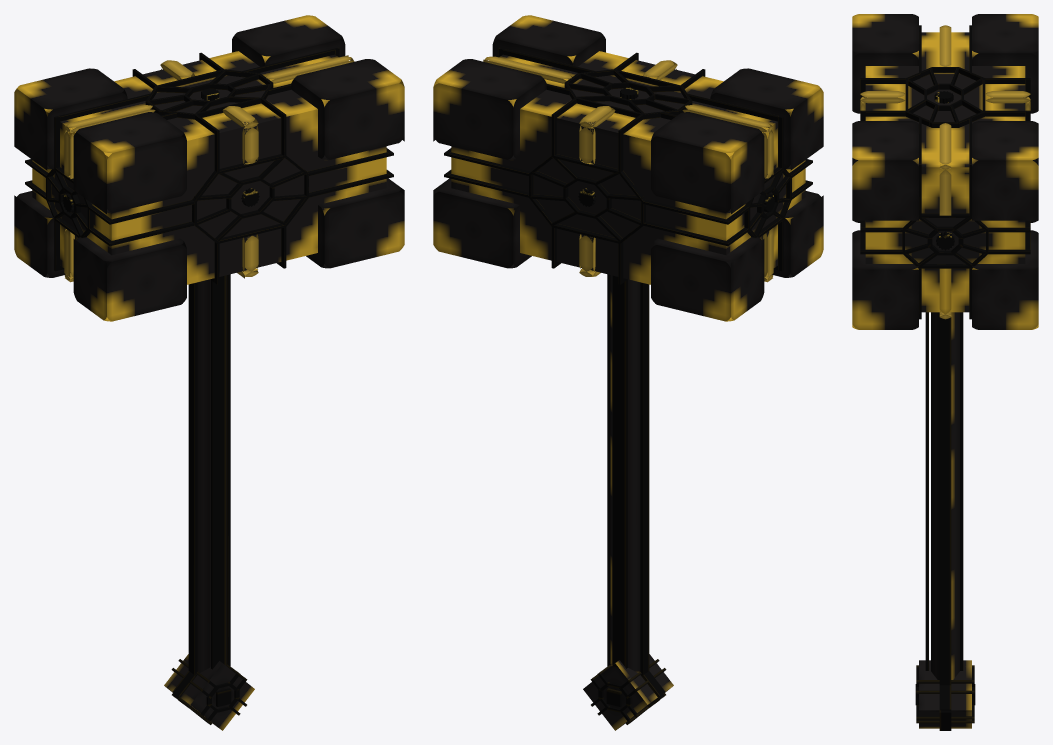
Rendered from midus_mase.obj.
3 renders of one model, left to right at view 1: azimuth 30°, elevation 25°; view 2: azimuth 150°, elevation 25°; view 3: azimuth 270°, elevation 25°, orthographic.
Parts seen in each view (by area): view 1: cube; view 2: cube; view 3: cube.
Part boxes in pixels (<box>): cube: <box>14,15,404,730</box>; cube: <box>433,15,823,730</box>; cube: <box>852,14,1038,730</box>.
Size of the model in its own units: 0.8125 by 1.66 by 0.4375.
3 materials, 3 textured.
